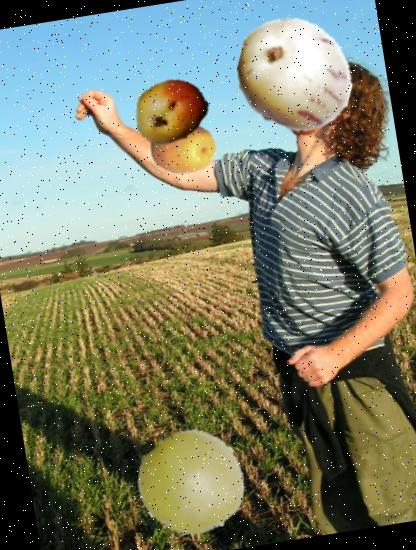Grape: (132, 422, 253, 544)
Kumquats: (145, 111, 222, 188)
Papaya: (128, 68, 214, 154)
Pepino: (229, 7, 363, 141)
